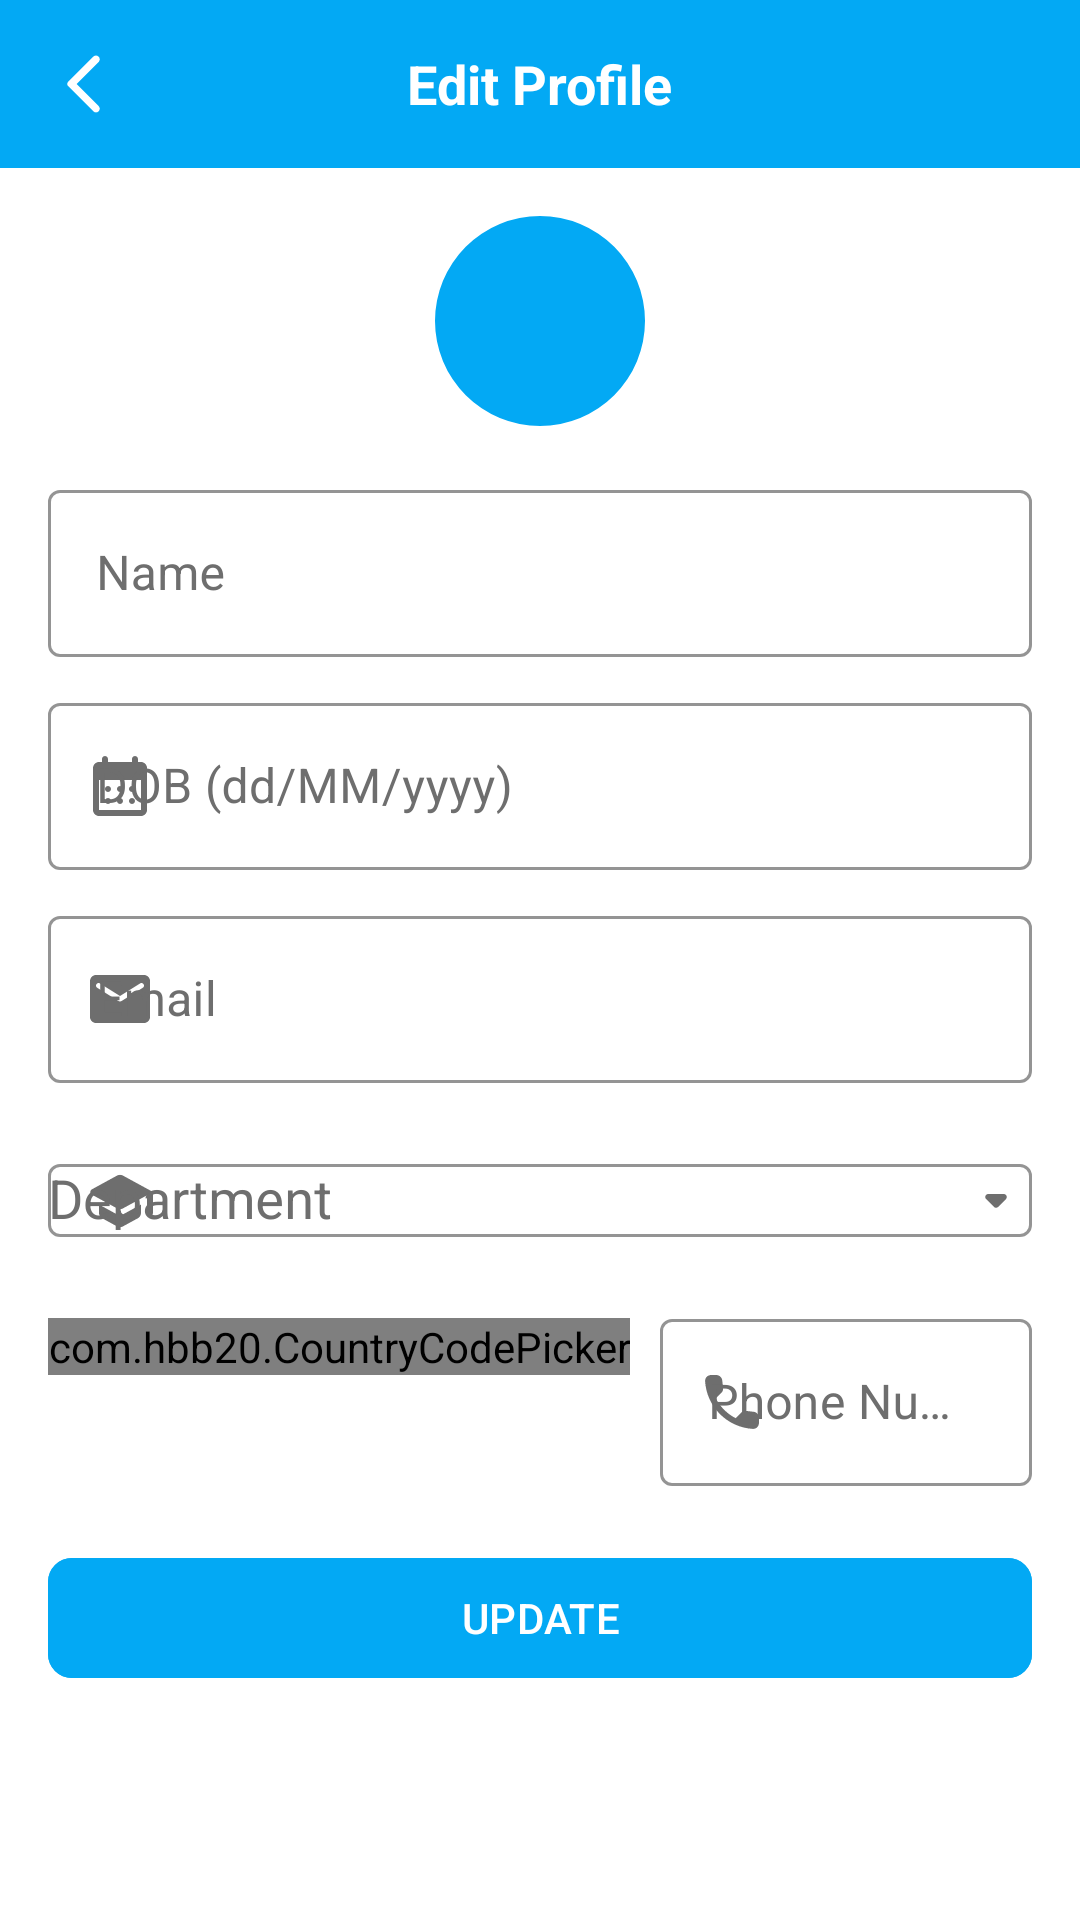

Named icons in this screenshot (1080×1920) and their centers, (x,y):
back: (83,84)
